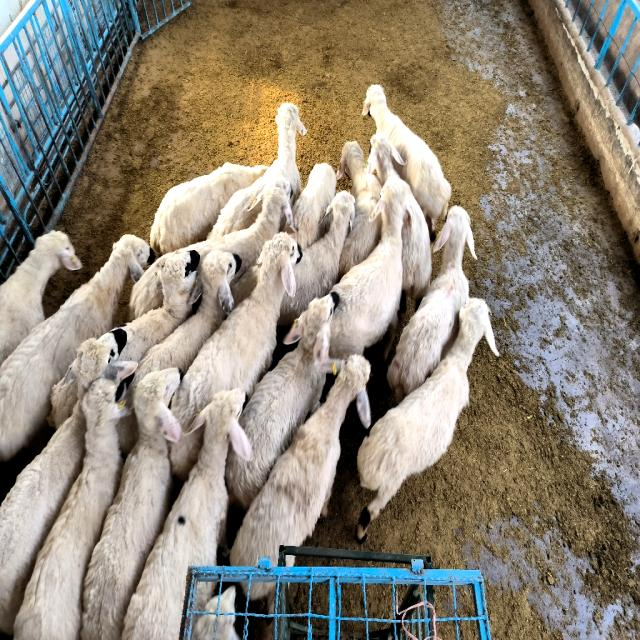sheep: (0, 328, 138, 634), (358, 298, 499, 541), (0, 235, 149, 459), (122, 388, 251, 638), (170, 233, 300, 481), (230, 355, 370, 567), (14, 378, 126, 638), (81, 368, 181, 638), (225, 293, 341, 510), (388, 207, 476, 401), (132, 250, 241, 388), (329, 177, 410, 358), (208, 103, 306, 240), (362, 85, 451, 234), (175, 177, 292, 274), (0, 232, 82, 366), (150, 163, 266, 254), (278, 192, 355, 328), (368, 133, 431, 298), (116, 250, 200, 361), (336, 140, 381, 278), (292, 163, 336, 249), (130, 255, 169, 318)
